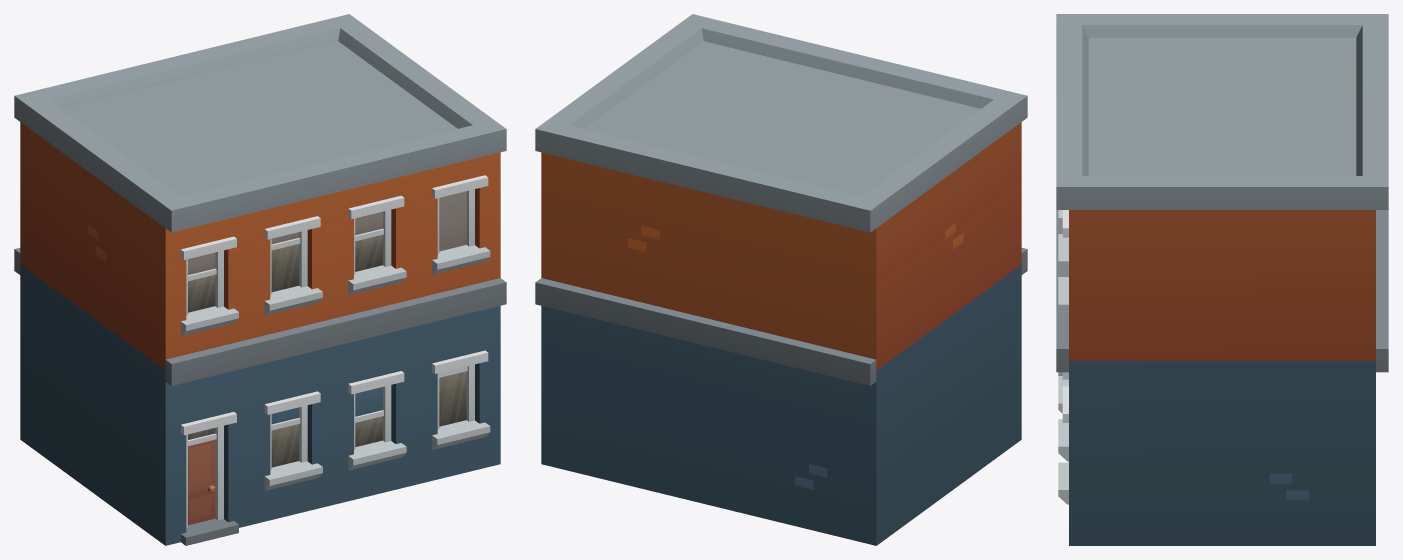
File: city-b.glb
3 views of the same model, side by side, from view 1: azimuth 30°, elevation 25°; view 2: azimuth 150°, elevation 25°; view 3: azimuth 270°, elevation 25° (orthographic). The views are drawn at different scales.
Parts seen in each view (by area): view 1: building_B_withoutBase; view 2: building_B_withoutBase; view 3: building_B_withoutBase.
Boxes of the visible parts, x1,y1,x2,y2 form: building_B_withoutBase: [14, 14, 506, 545]; building_B_withoutBase: [535, 14, 1027, 545]; building_B_withoutBase: [1056, 14, 1388, 545].
Bounding box in the file's own units: 1.61 × 1.55 × 1.3.
1 material, 1 textured.
